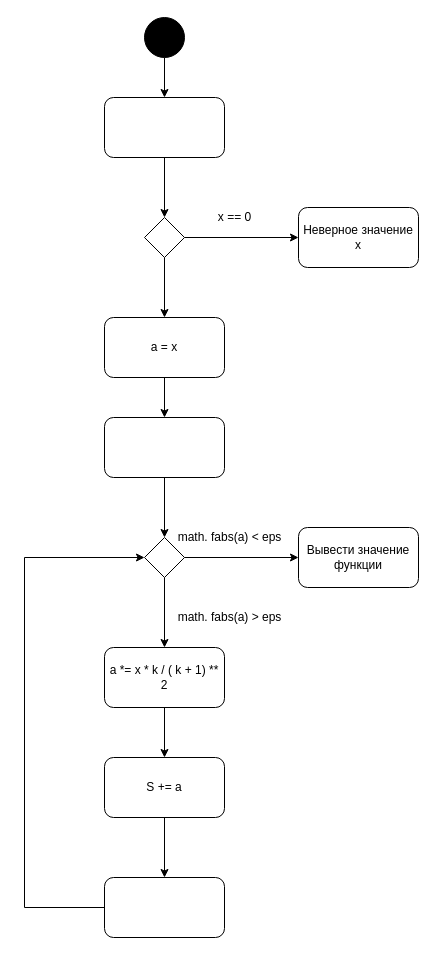
Image size: 436x955. Some labels were removed from this diagram. The centre of each missing label's shape, as x and y in pixels:
"k += 1" belongs at (x=164, y=907).
"S, k = a, 1" belongs at (x=164, y=447).
"Введите значение х" belongs at (x=164, y=127).
